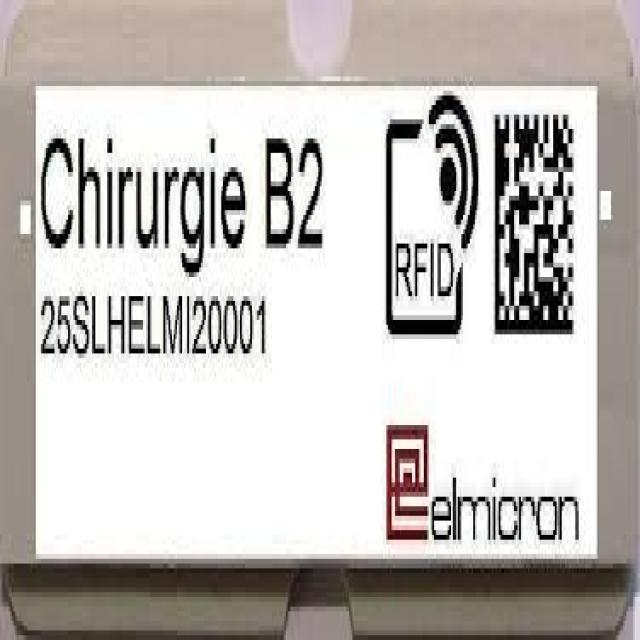datamatrix: (490, 100, 579, 349)
